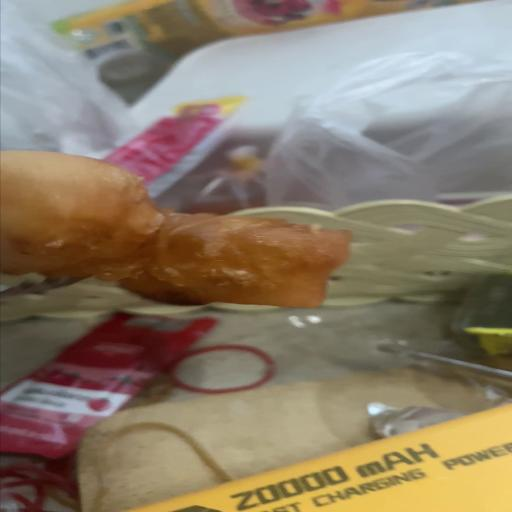street_burnt_good: (0, 151, 349, 307)
